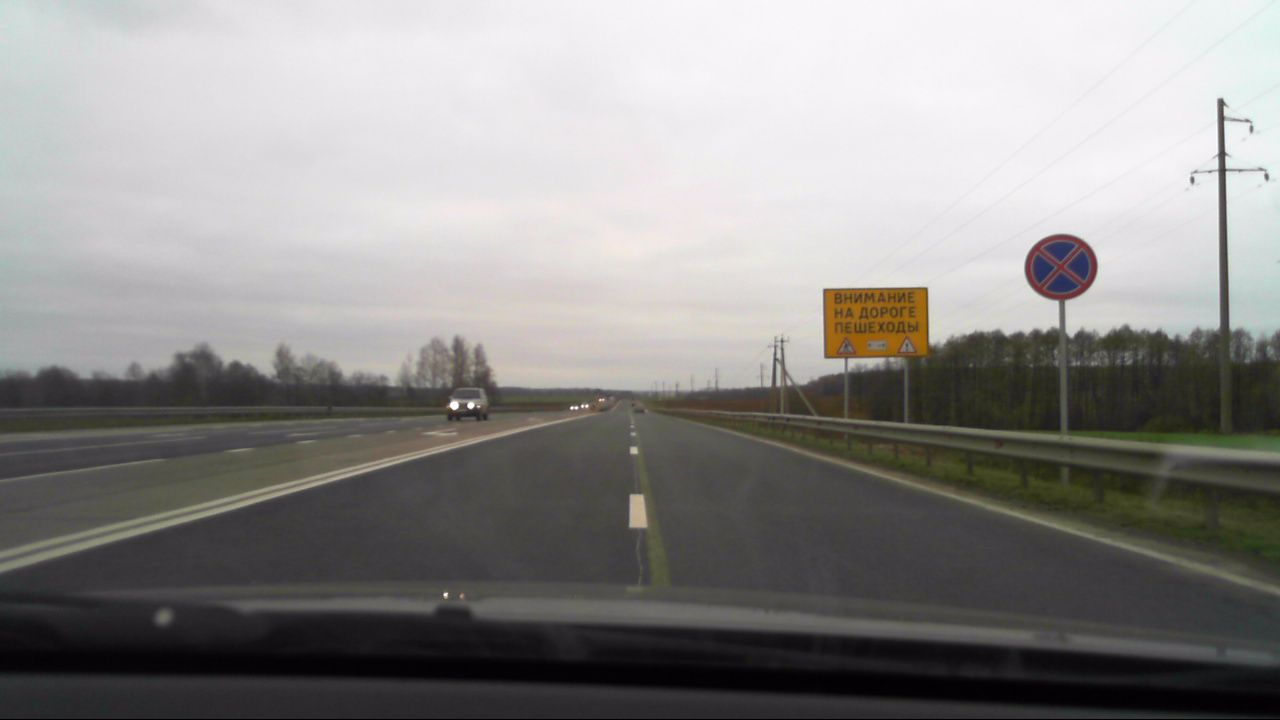No Parking: (1024, 235, 1102, 309)
